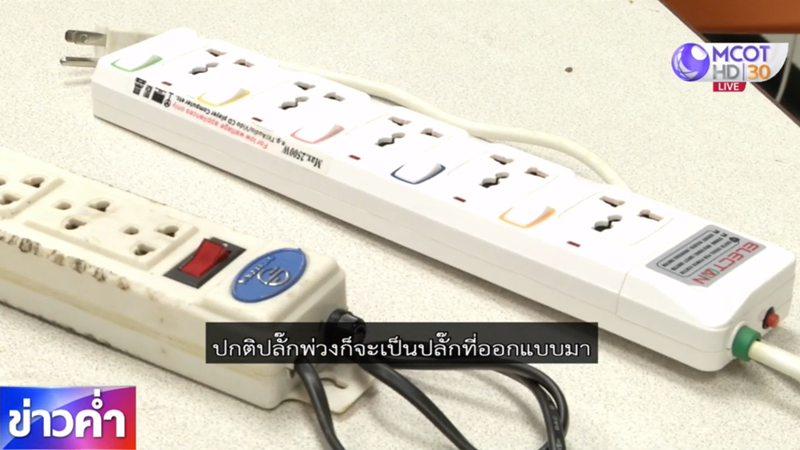Three_eye_plug: (86, 15, 797, 382), (1, 141, 380, 415)
